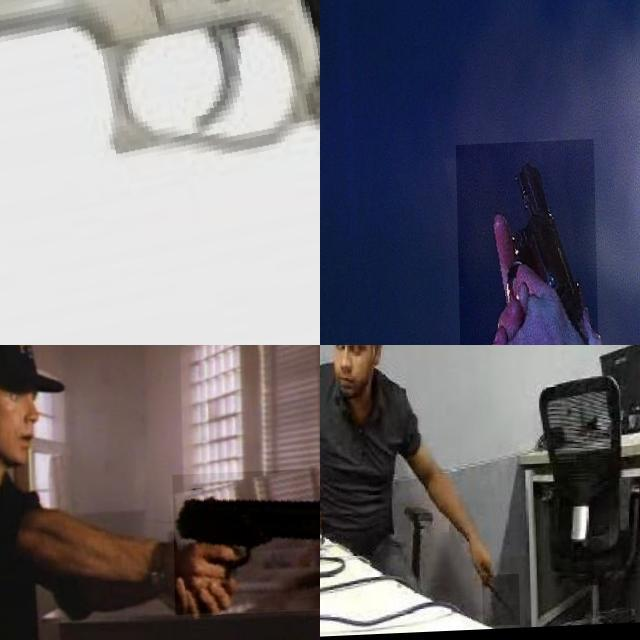-: (479, 578, 517, 630)
gun-knife-thesis - v11 Yolov5 augmented: (0, 0, 320, 345), (454, 141, 598, 345), (171, 471, 320, 618)
